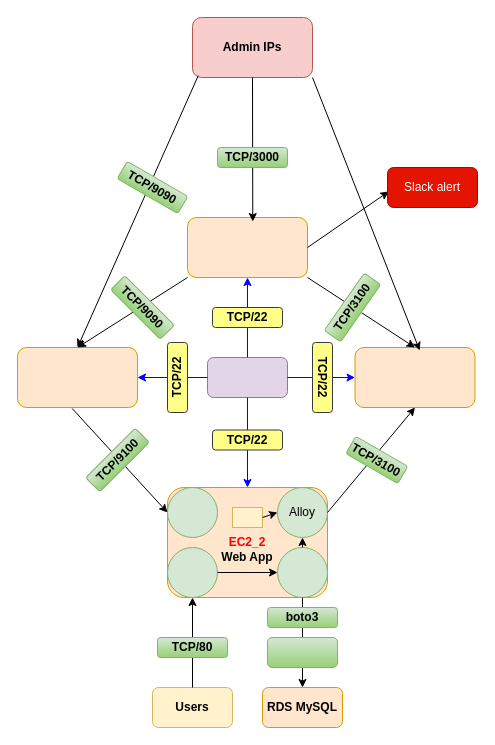
Some shapes in this 495 by 745 pixel diagram are drawn without their labels. Each missing label, with the centre of its shape:
"Ansible EC2_1" belongs at point 247,377.
"Flask" belongs at point 302,572.
"Grafana EC2_5" belongs at point 247,247.
"LOGS" belongs at point 247,517.
"Loki EC2_3" belongs at point 414,377.
"Nginx" belongs at point 192,572.
"Node exporter" belongs at point 192,512.
"Prometheus EC2_4" belongs at point 77,377.
"secret manager" belongs at point 302,652.
